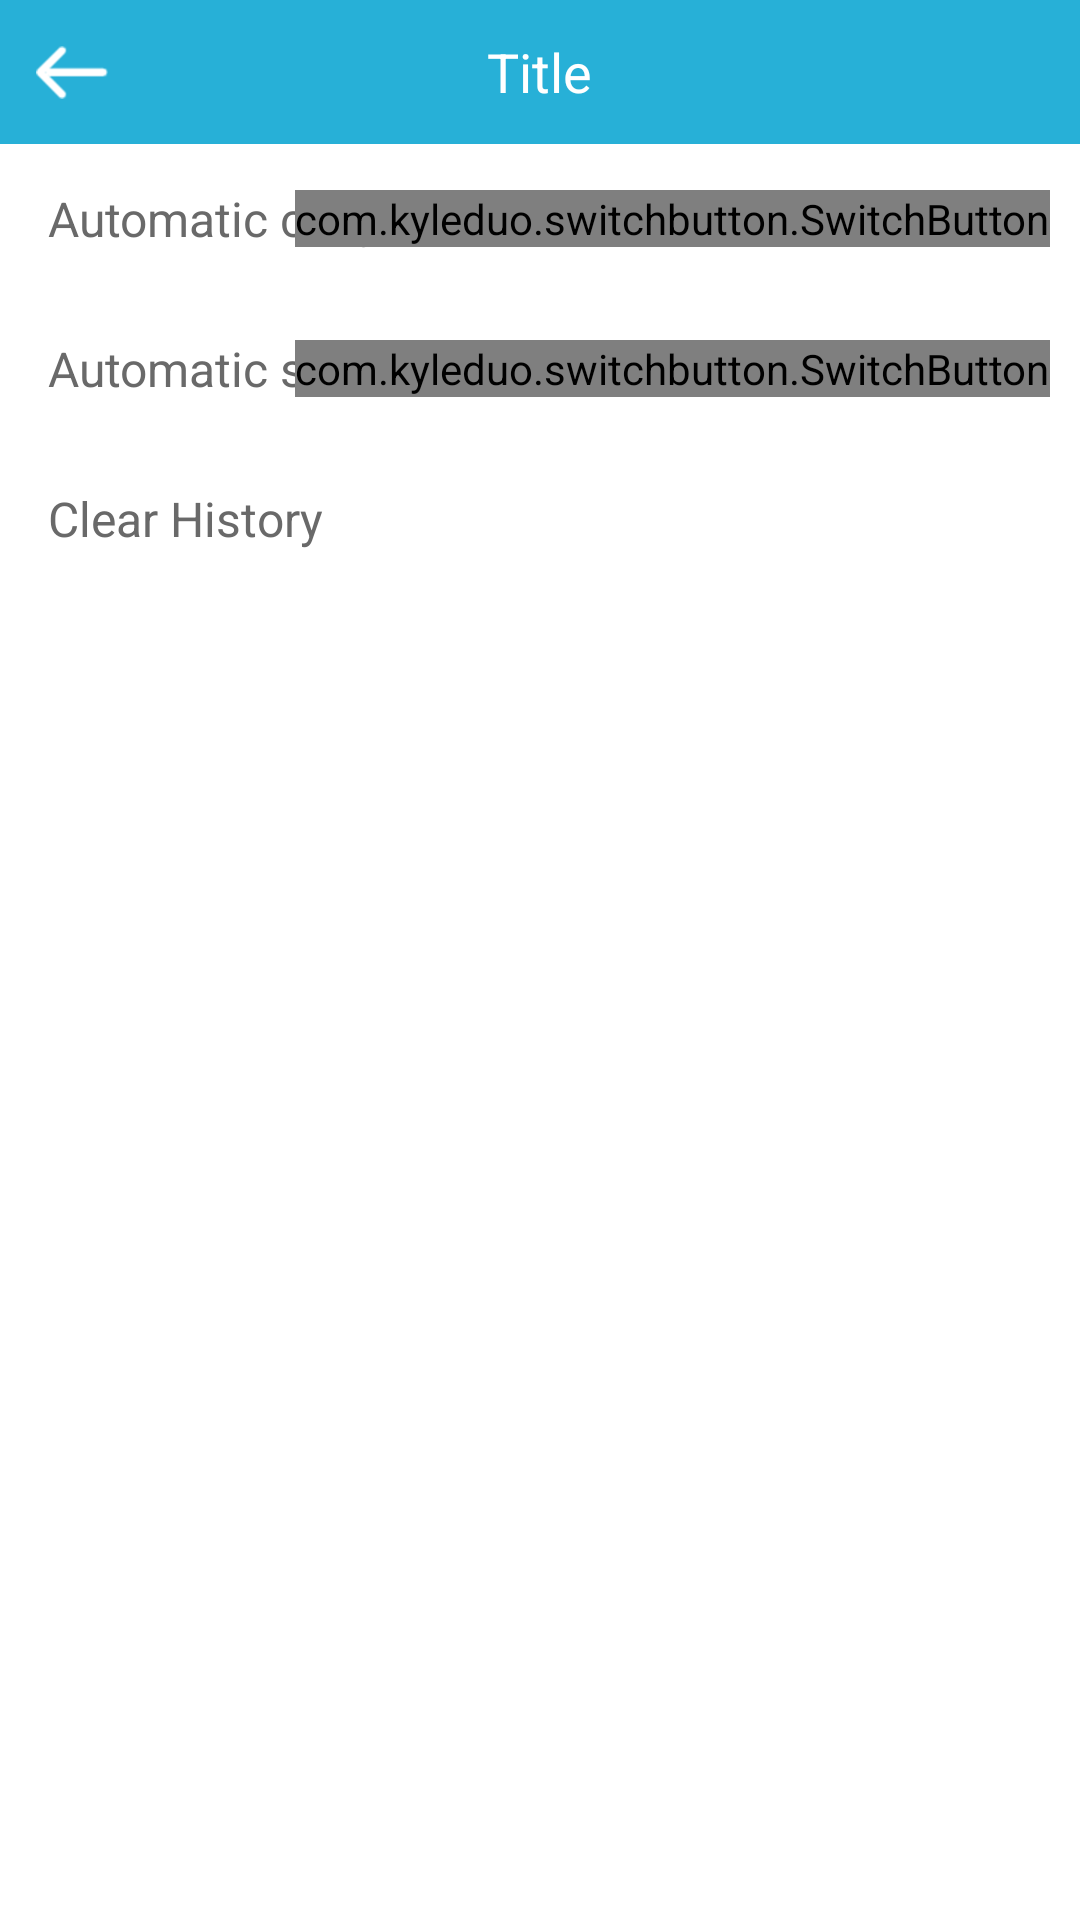

Icons on this 1080 x 1920 Android screen, each with the point to tap as (x=x, y=y):
back: (x=72, y=72)
